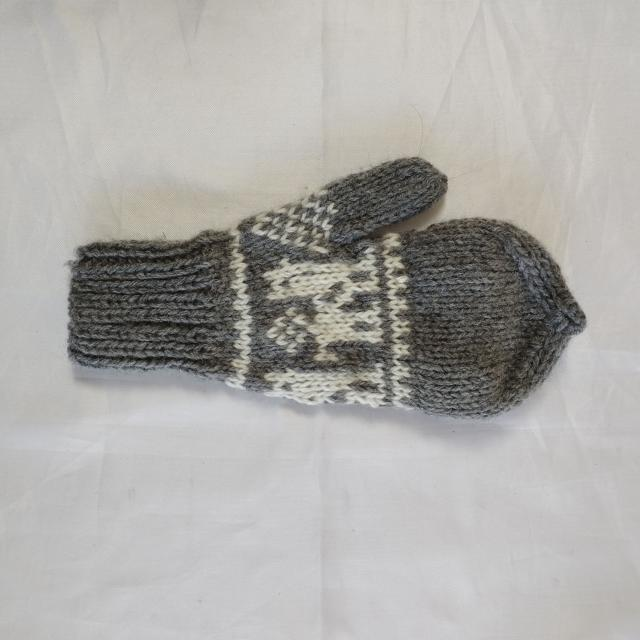Guante: (65, 154, 587, 420)
